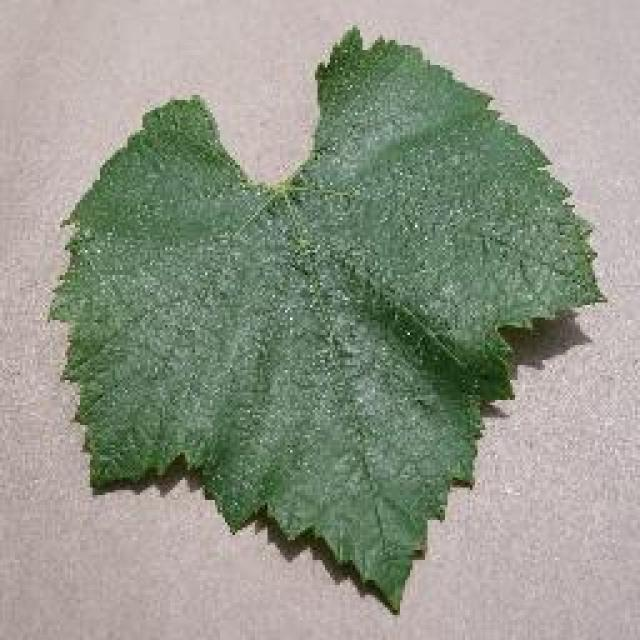Grape___healthy: (52, 30, 598, 608)
